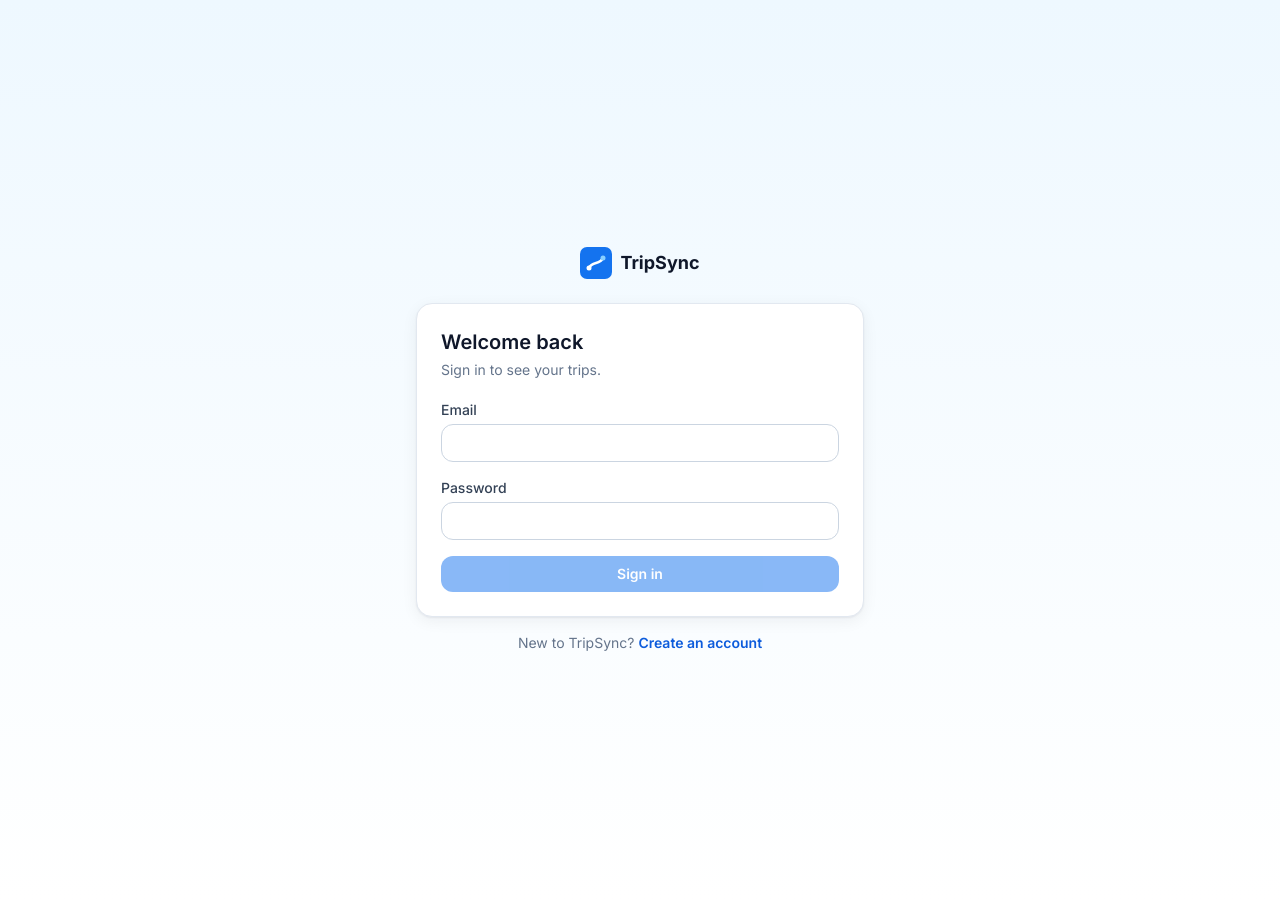
Test: login › shows the server error for invalid credentials
The image size is (1280, 900).
In the field labelled "Email": x=640, y=443 top-left (441, 424), bottom-right (839, 462), type "a@example.test"
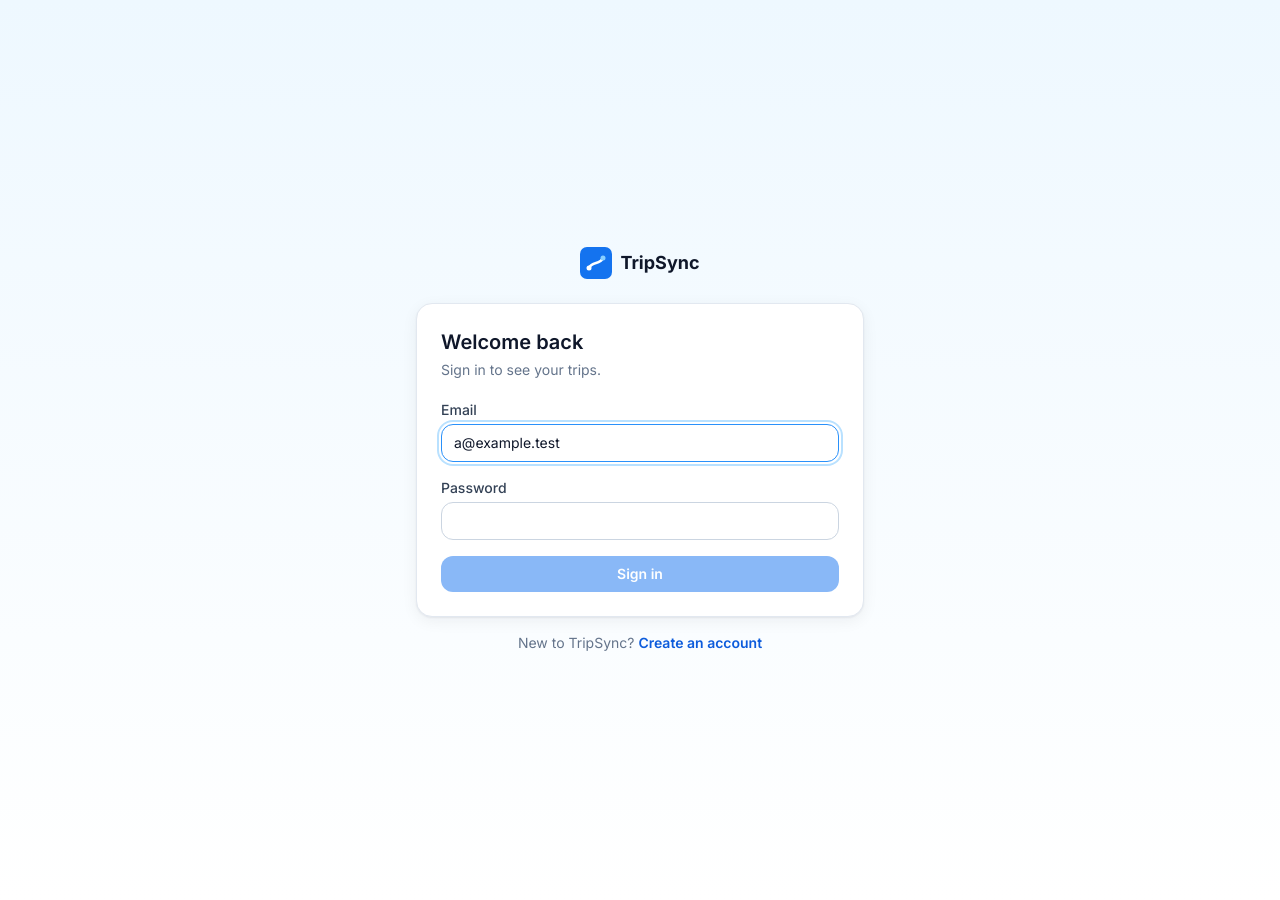
In the password field labelled "Password": x=640, y=521 top-left (441, 502), bottom-right (839, 540), type "wrong-pass1"
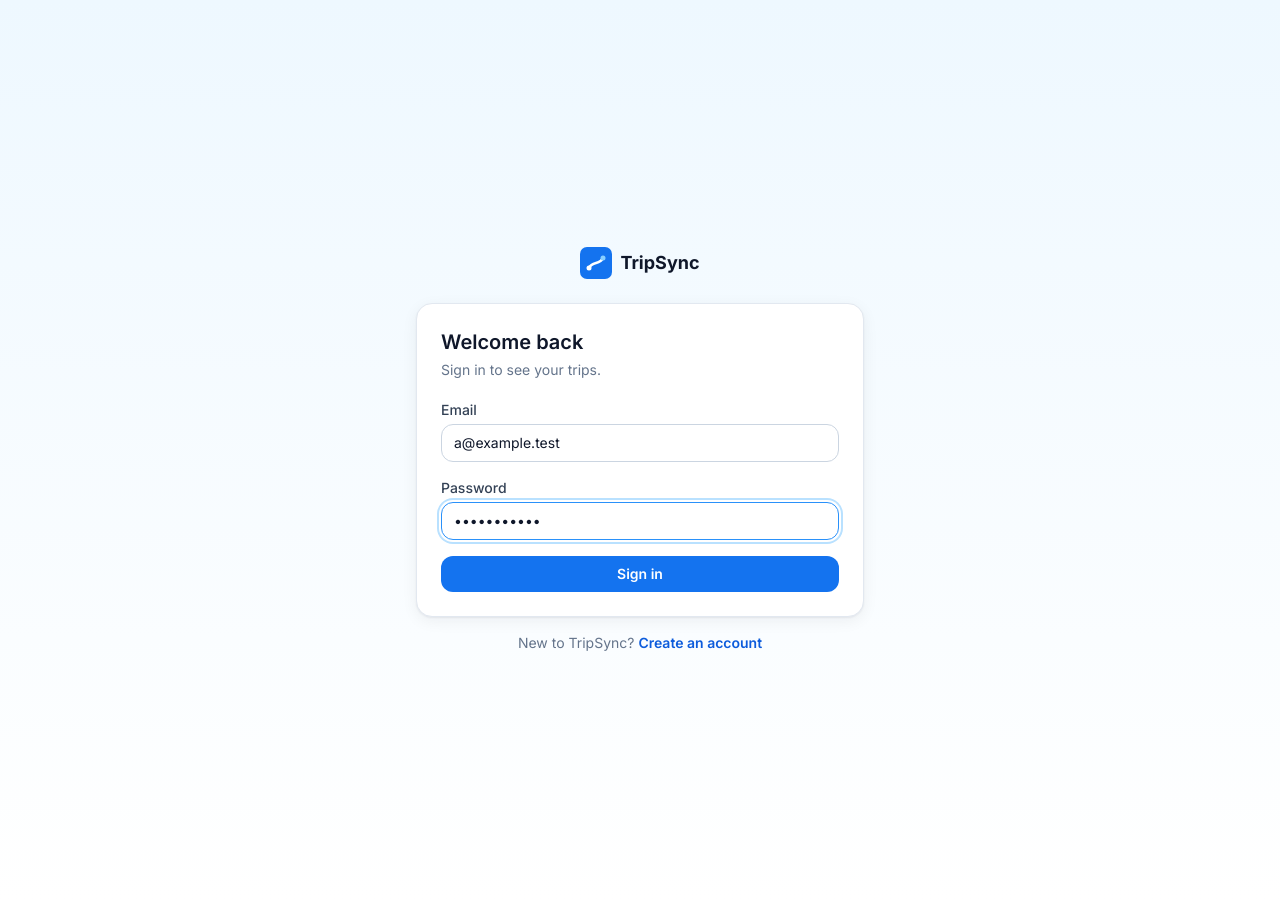
Click the button "Sign in": x=640, y=574 top-left (441, 556), bottom-right (839, 592)
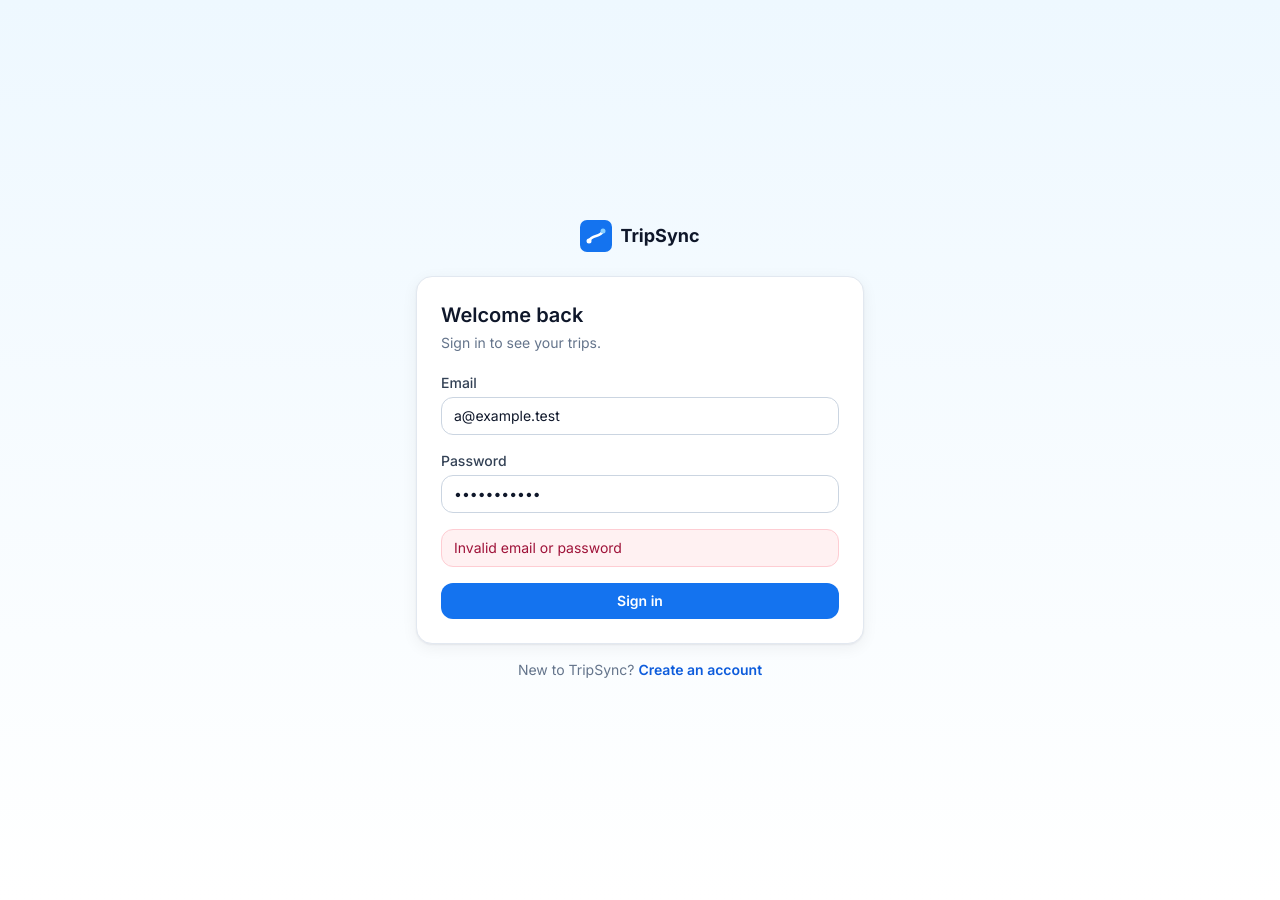
Expected: the message reads "Invalid email or password", top-left (454, 539), bottom-right (622, 556)
